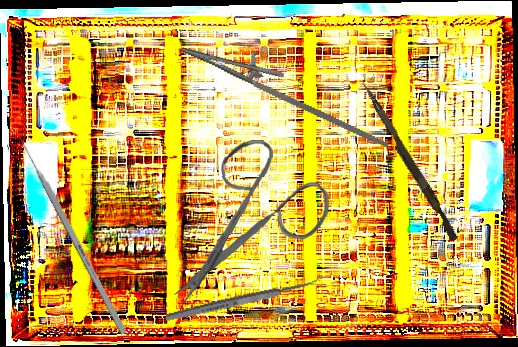Iris Scissors: (171, 136, 334, 313)
Needle Holder: (171, 29, 404, 149)
Pusher: (12, 126, 128, 336), (354, 80, 463, 242)
Surgical Spoon: (164, 275, 327, 324)
